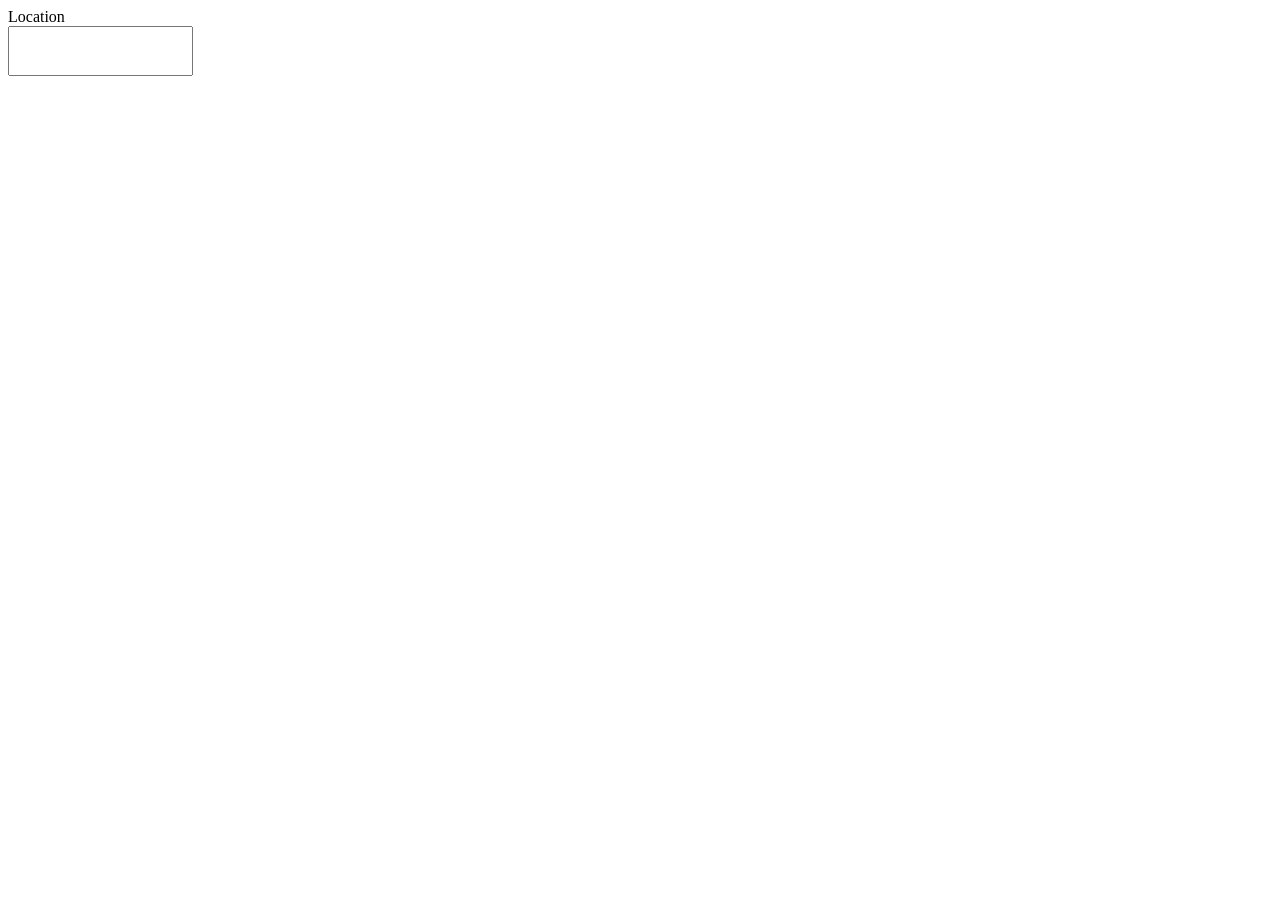
it: Combobox › opens with ArrowDown, closes with Escape and skips disabled options
Press Arrowdown
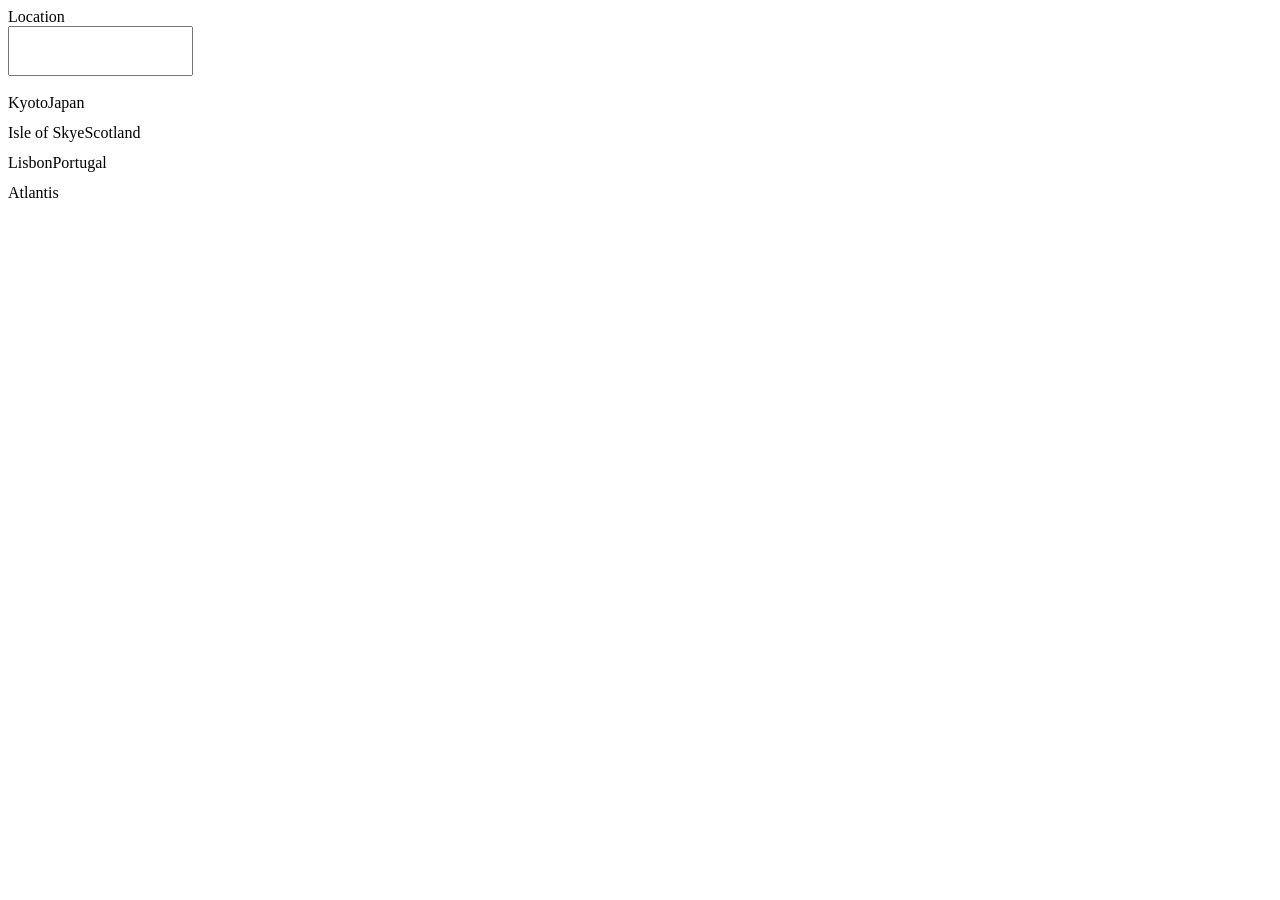
Click the option "Atlantis" at (33, 192), box [8, 184, 59, 201]
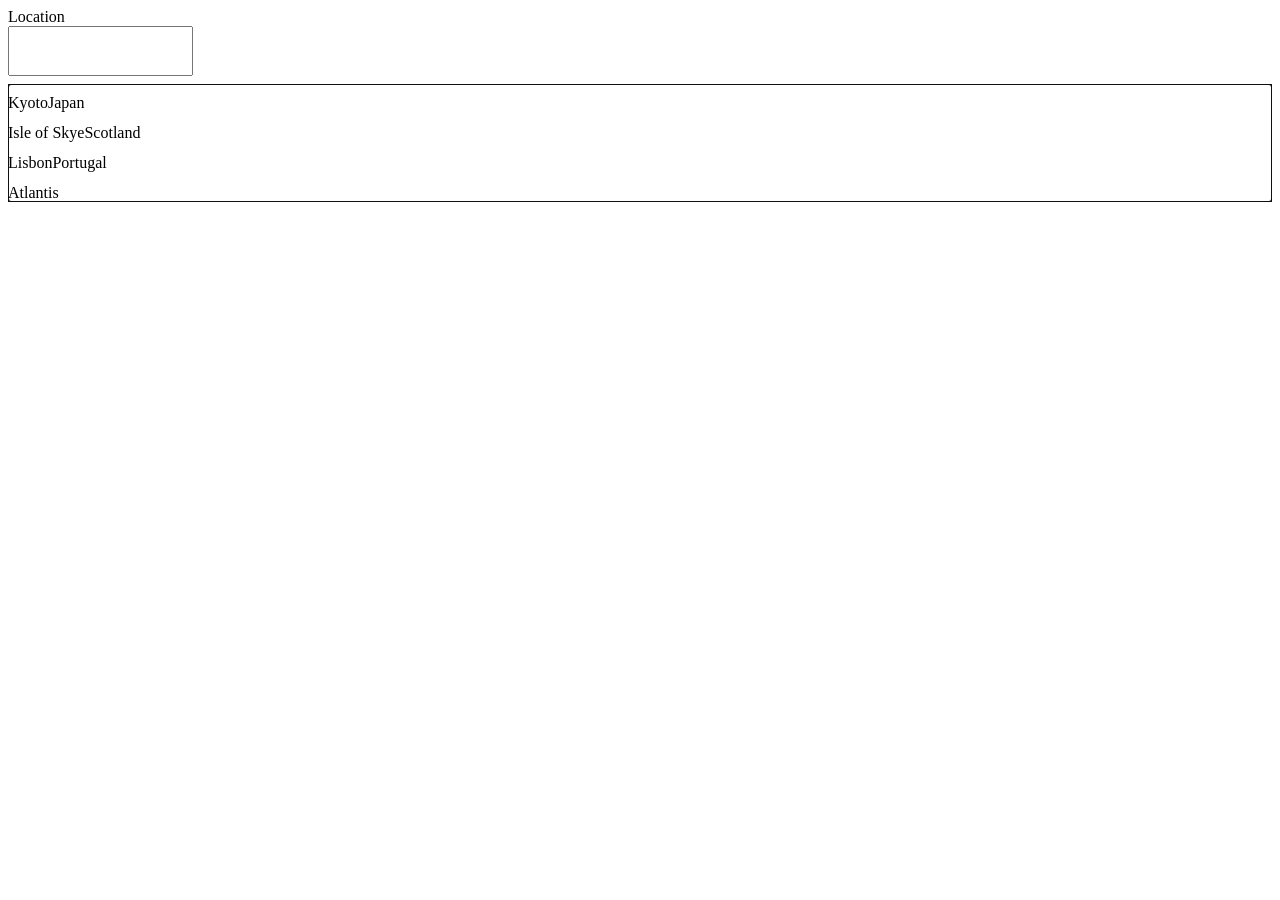
Press Escape
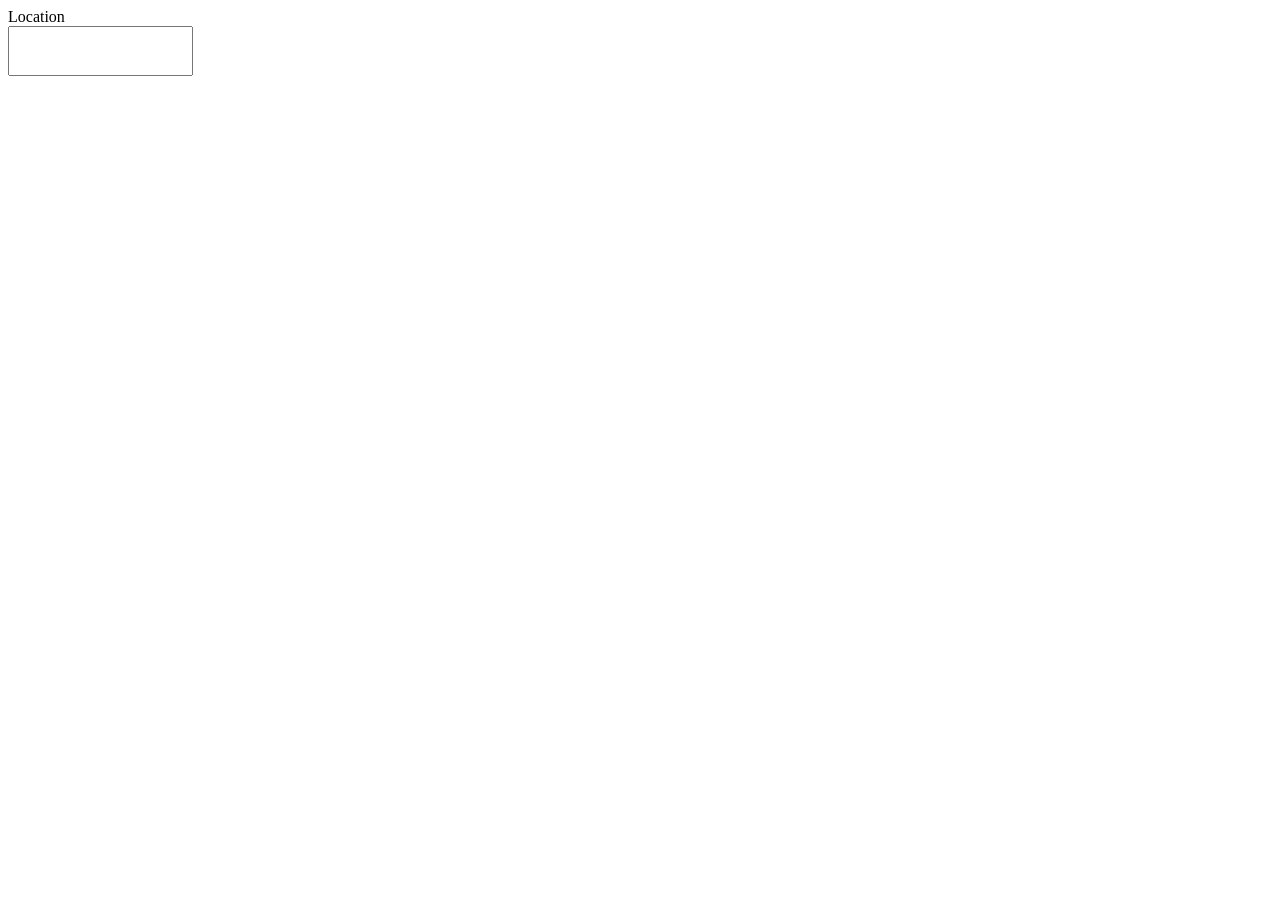
Expected: the list is gone
